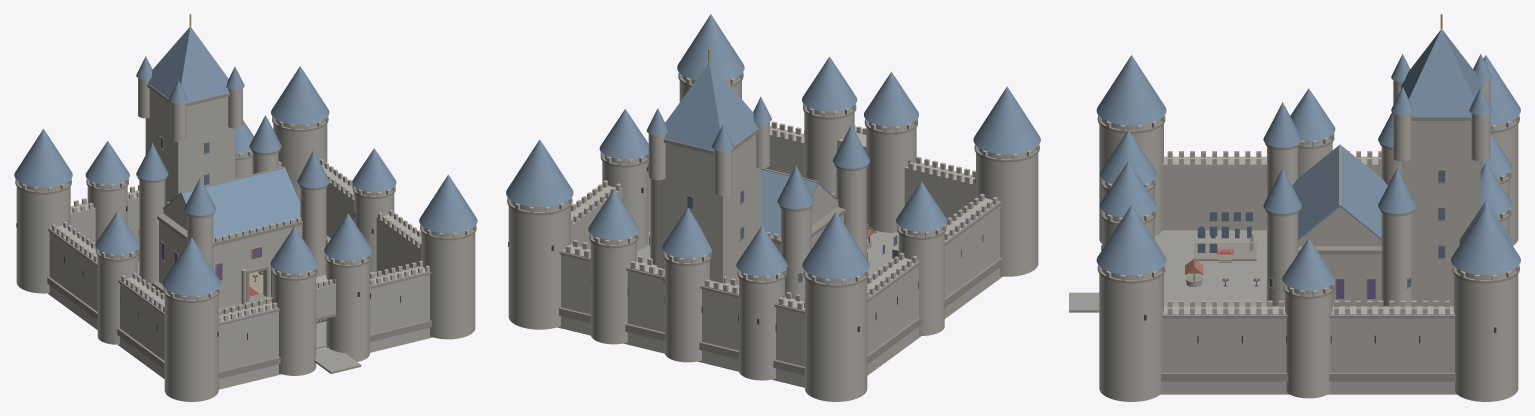
File: castle01.glb
The picture shows the model from 3 angles, left to right: view 1: azimuth 30°, elevation 25°; view 2: azimuth 150°, elevation 25°; view 3: azimuth 270°, elevation 25°; orthographic projection. The views are drawn at different scales.
Visible parts, largest first — view 1: Castle2; view 2: Castle2; view 3: Castle2, Castle_barracks.
Part boxes in pixels (x1,y1,x2,y2): Castle2: (14,14,477,401); Castle2: (506,14,1040,401); Castle2: (1069,14,1520,401); Castle_barracks: (1194,212,1256,262).
Bounding box in the file's own units: 81.4 × 63.8 × 86.7.
